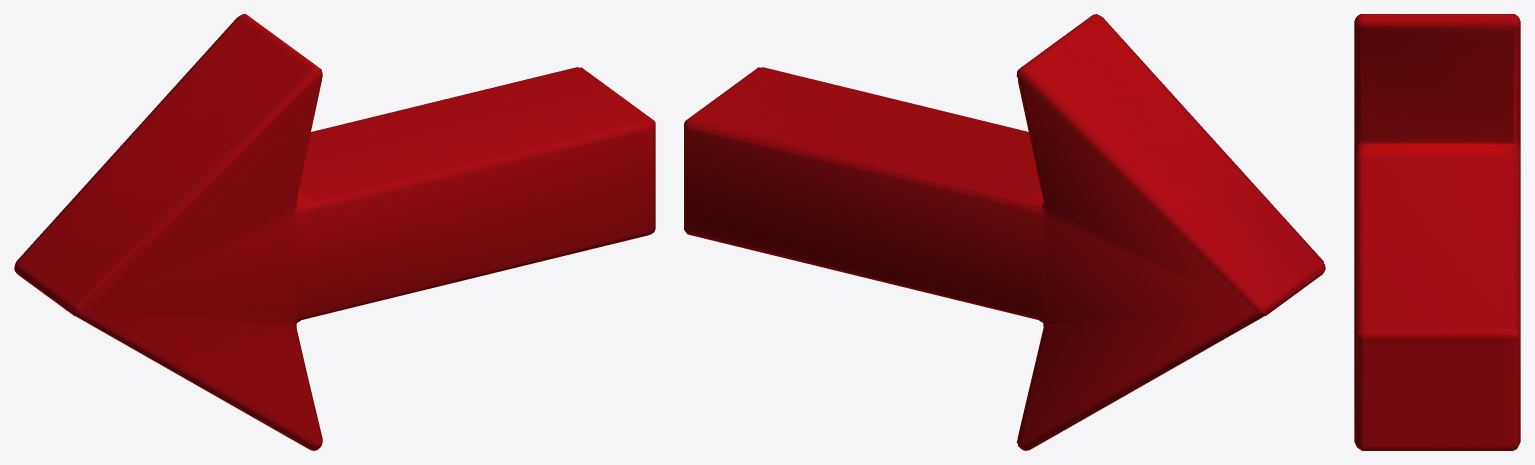
Rendered from red_arrow_v1.glb.
The picture shows the model from 3 angles, left to right: view 1: azimuth 30°, elevation 25°; view 2: azimuth 150°, elevation 25°; view 3: azimuth 270°, elevation 25°; orthographic projection. The views are drawn at different scales.
Bounding box in the file's own units: 1.9 × 1.21 × 0.4501.
Materials: 1 (1 with a texture image).
